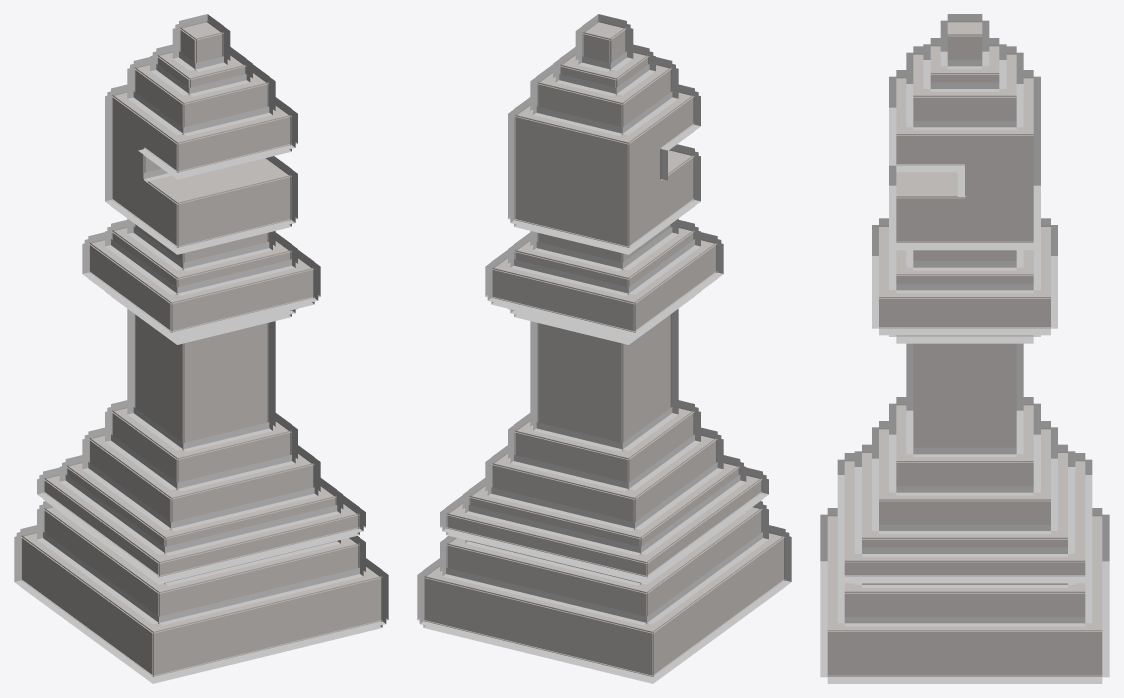
The model's file is white-bishop.glb.
3 views of the same model, side by side, from view 1: azimuth 30°, elevation 25°; view 2: azimuth 150°, elevation 25°; view 3: azimuth 270°, elevation 25° (orthographic). The views are drawn at different scales.
Parts seen in each view (by area): view 1: chess-bishop-white_model; view 2: chess-bishop-white_model; view 3: chess-bishop-white_model.
Boxes of the visible parts, <box> form: chess-bishop-white_model: <box>14,14,388,683</box>; chess-bishop-white_model: <box>417,14,791,683</box>; chess-bishop-white_model: <box>820,14,1109,683</box>.
Bounding box in the file's own units: 1.68 × 3.88 × 1.68.
2 materials, 1 textured.
